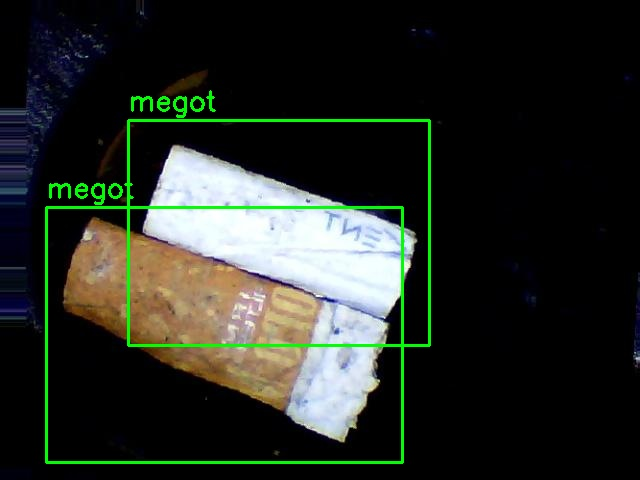megot: (46, 207, 402, 462), (128, 120, 429, 345)
